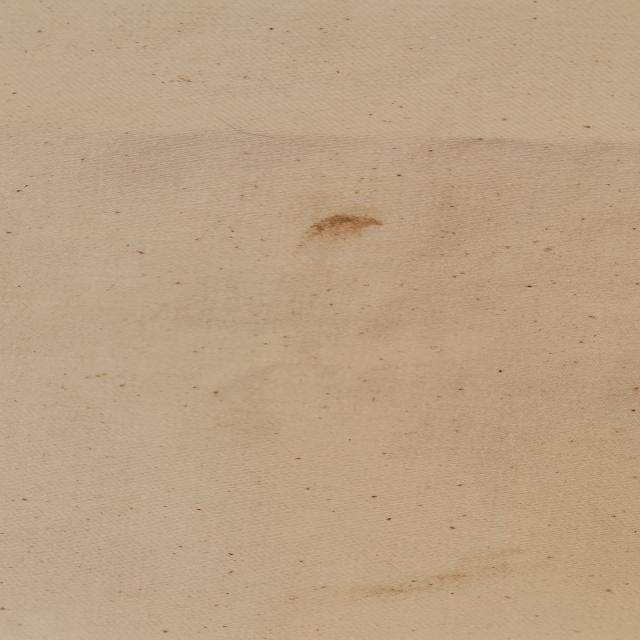taaaches: (259, 203, 396, 267)
